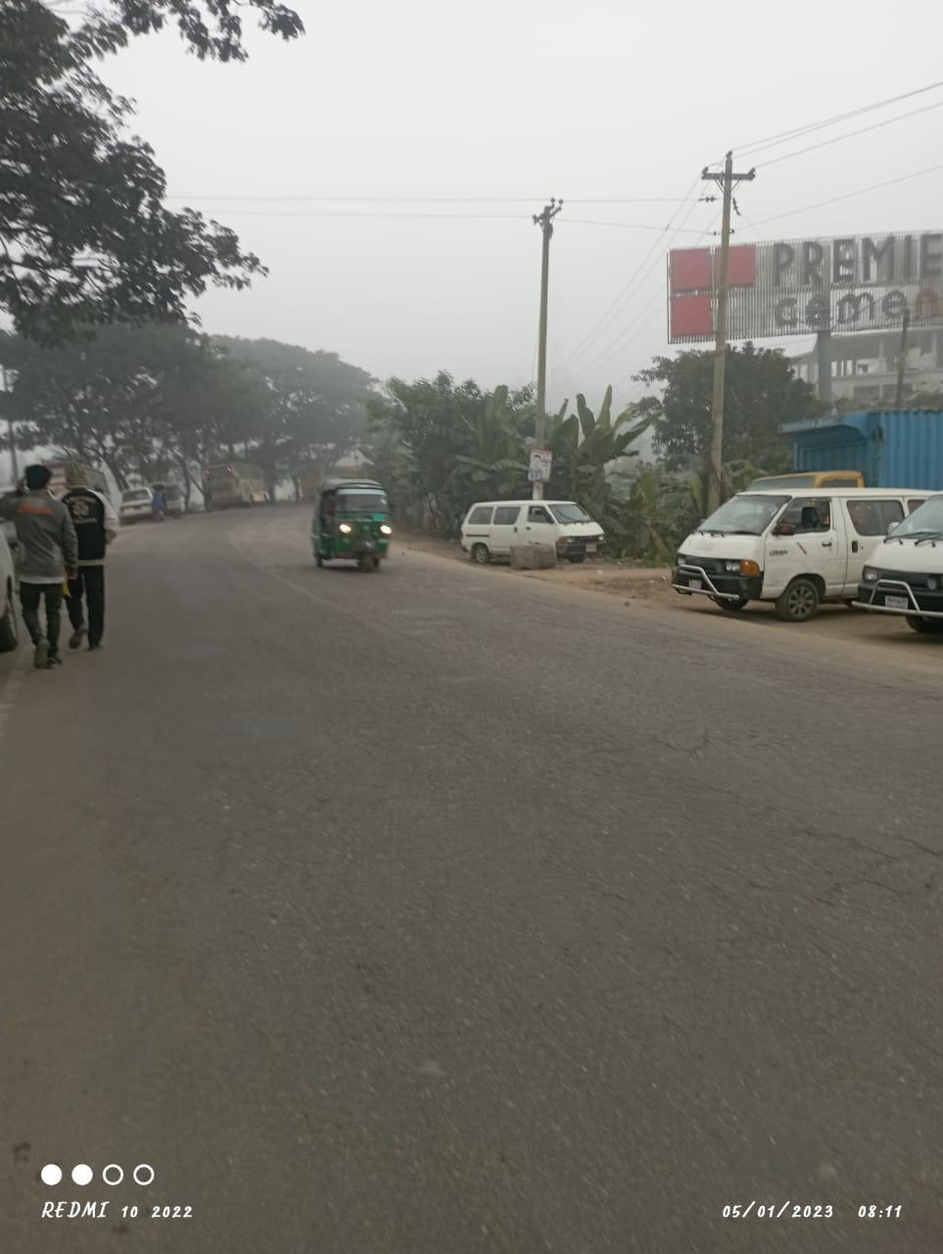Bus: (194, 448, 279, 516)
Car: (672, 477, 943, 614), (458, 483, 611, 563)
